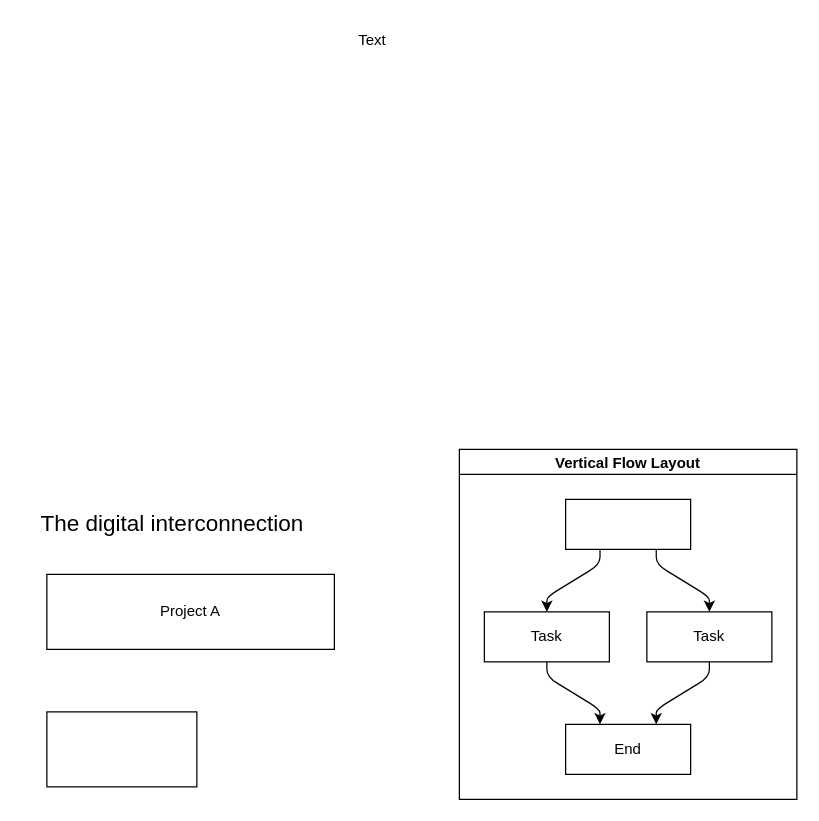
Some shapes in this 819 by 821 pixel diagram are drawn without their labels. The box of each missing label's shape, as (x1, y1, x2, y2) in pixels:
Project B: (46, 711, 197, 787)
start: (564, 498, 691, 549)
